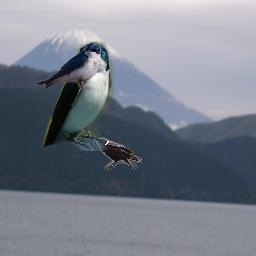Crow: (93, 137, 142, 171)
Swallow: (43, 41, 114, 151), (36, 42, 101, 88)
